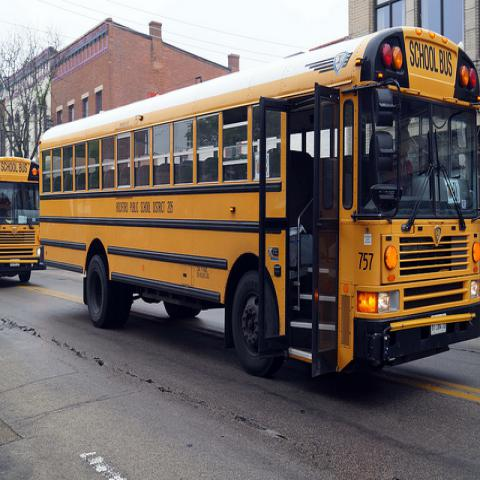bus: (38, 26, 480, 393), (0, 157, 50, 283)
